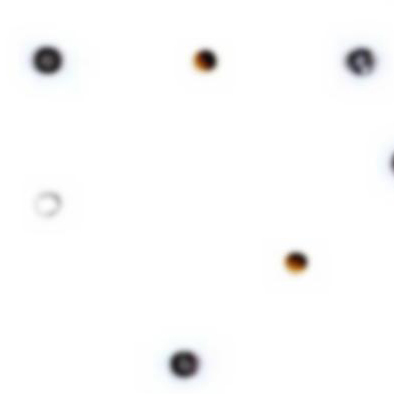abnormal: (27, 177, 72, 226)
cancer: (152, 329, 215, 390), (18, 37, 85, 87), (333, 33, 391, 89)
normal: (180, 35, 230, 86), (269, 240, 318, 290)
